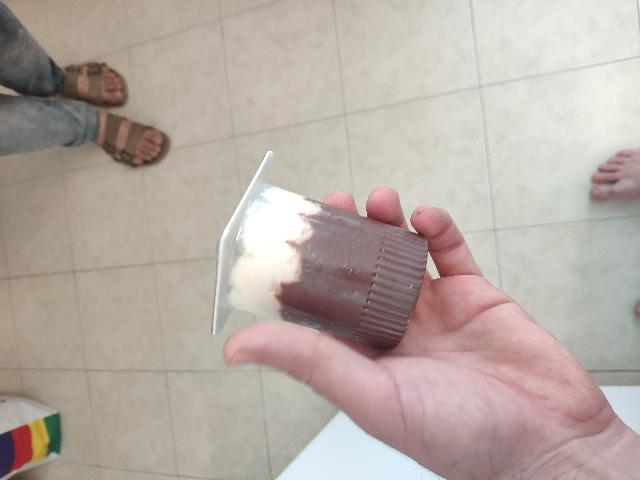milky: (206, 164, 450, 359)
